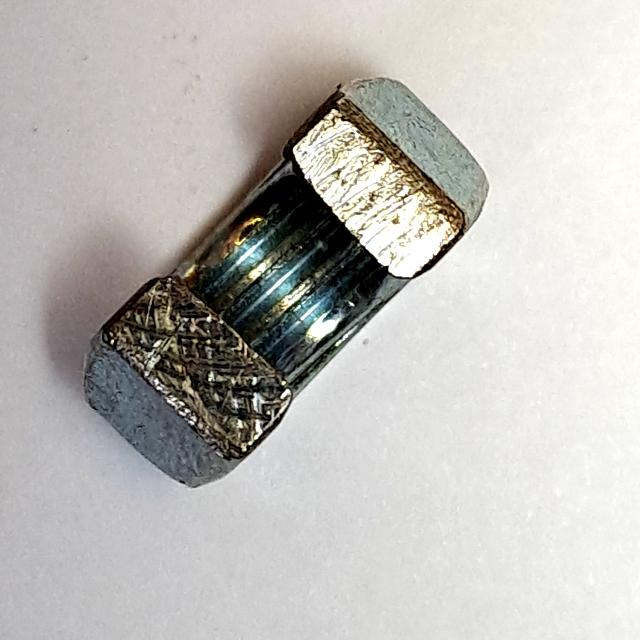Side-Fracture: (72, 61, 497, 508)
